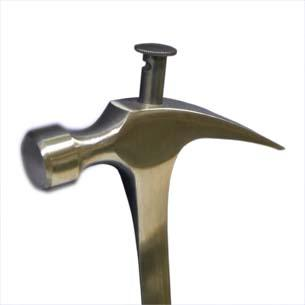hammer: (19, 95, 286, 304)
